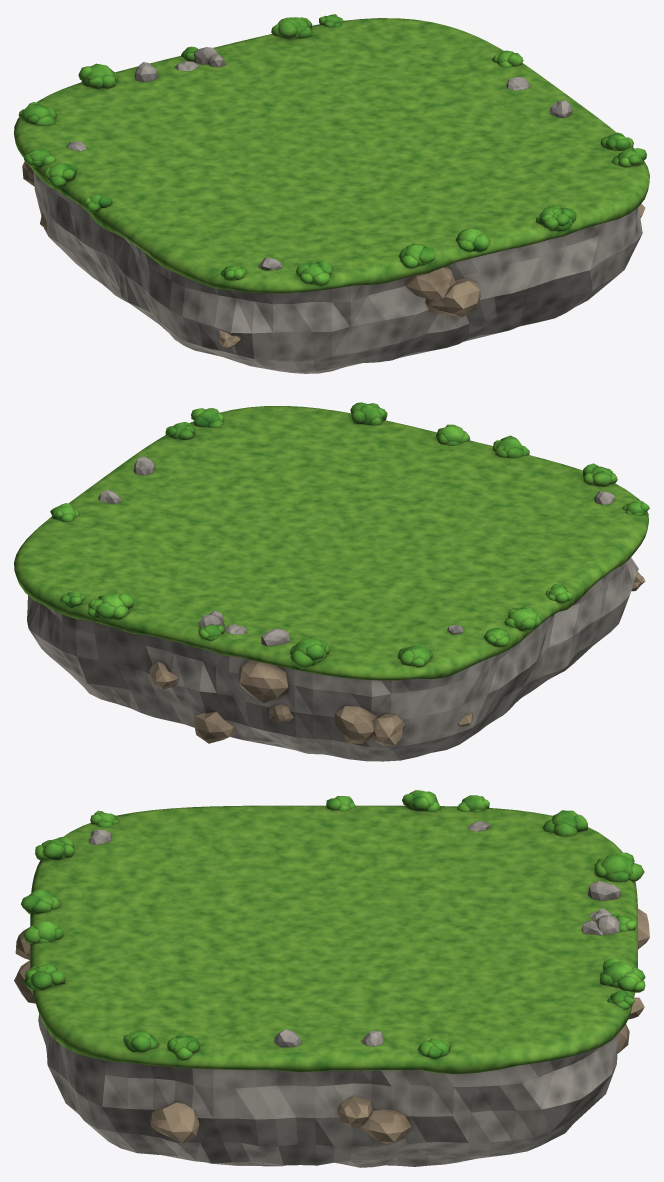
The model's file is MachuPicchu_Island.fbx.
3 views of the same model, one above another, from view 1: azimuth 30°, elevation 25°; view 2: azimuth 150°, elevation 25°; view 3: azimuth 270°, elevation 25° (orthographic). The views are drawn at different scales.
Visible parts, largest first — view 1: Island_Top, Island_Body; view 2: Island_Top, Island_Body; view 3: Island_Top, Island_Body.
Boxes of the visible parts, box(x1,y1,x2,y2) form: Island_Top: box(14, 14, 649, 293); Island_Body: box(22, 161, 645, 373); Island_Top: box(14, 402, 649, 680); Island_Body: box(27, 557, 645, 761); Island_Top: box(21, 790, 645, 1074); Island_Body: box(14, 909, 649, 1167).
Size of the model in its own units: 16.67 by 5.89 by 16.81.
Materials: 1 (1 with a texture image).
